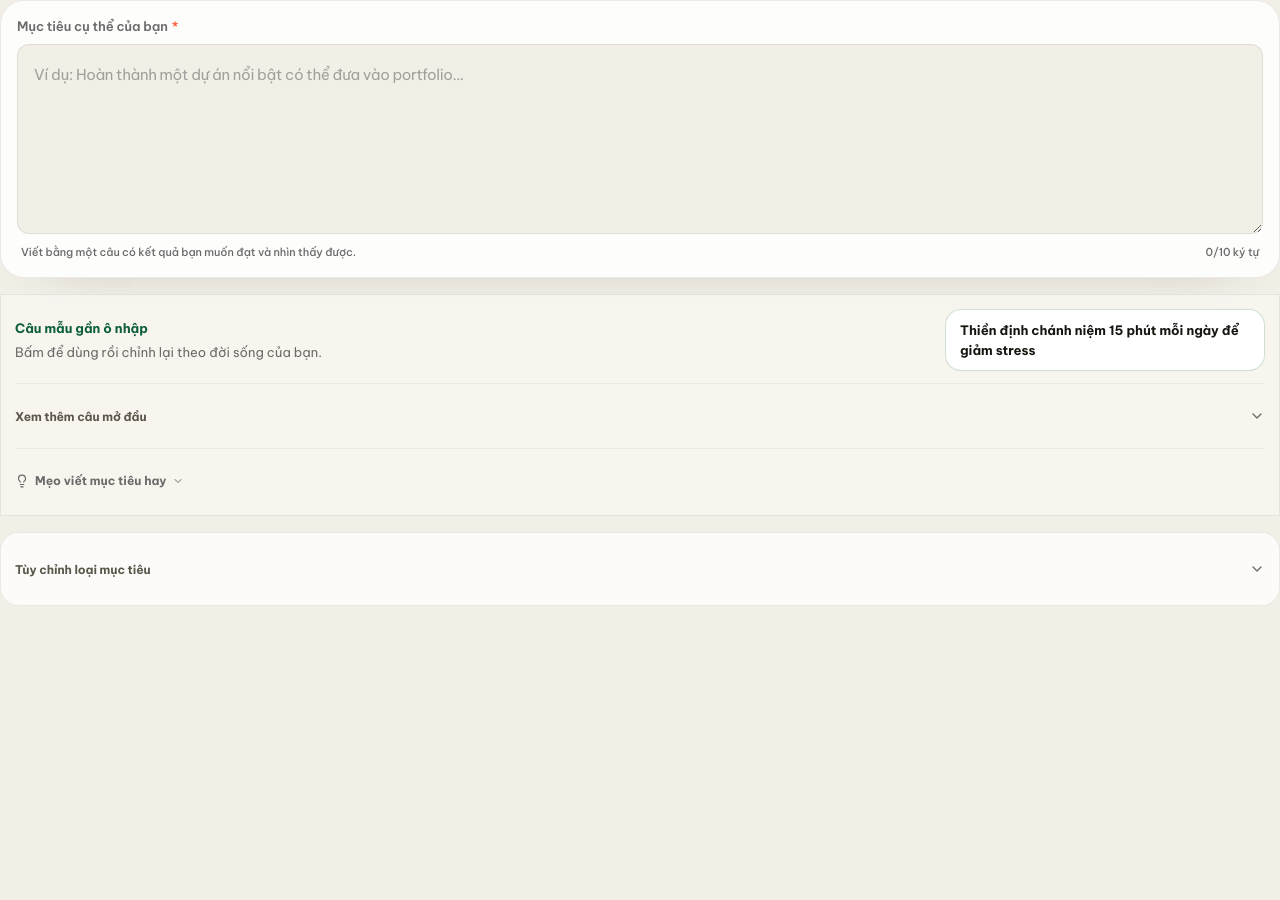
Test: SpecificStep — inline validation + giữ dữ liệu › validation fail không reset/clear giá trị người dùng đã nhập (Req 13.6)
This screenshot has width=1280, height=900.
# Nhập giá trị chưa đủ điều kiện (dưới 10 ký tự) → sẽ vi phạm rule minLength.
Type "ngắn" into the text box labelled "Mục tiêu cụ thể của bạn*" at (640, 139), box x1=17 y1=44 x2=1263 y2=234
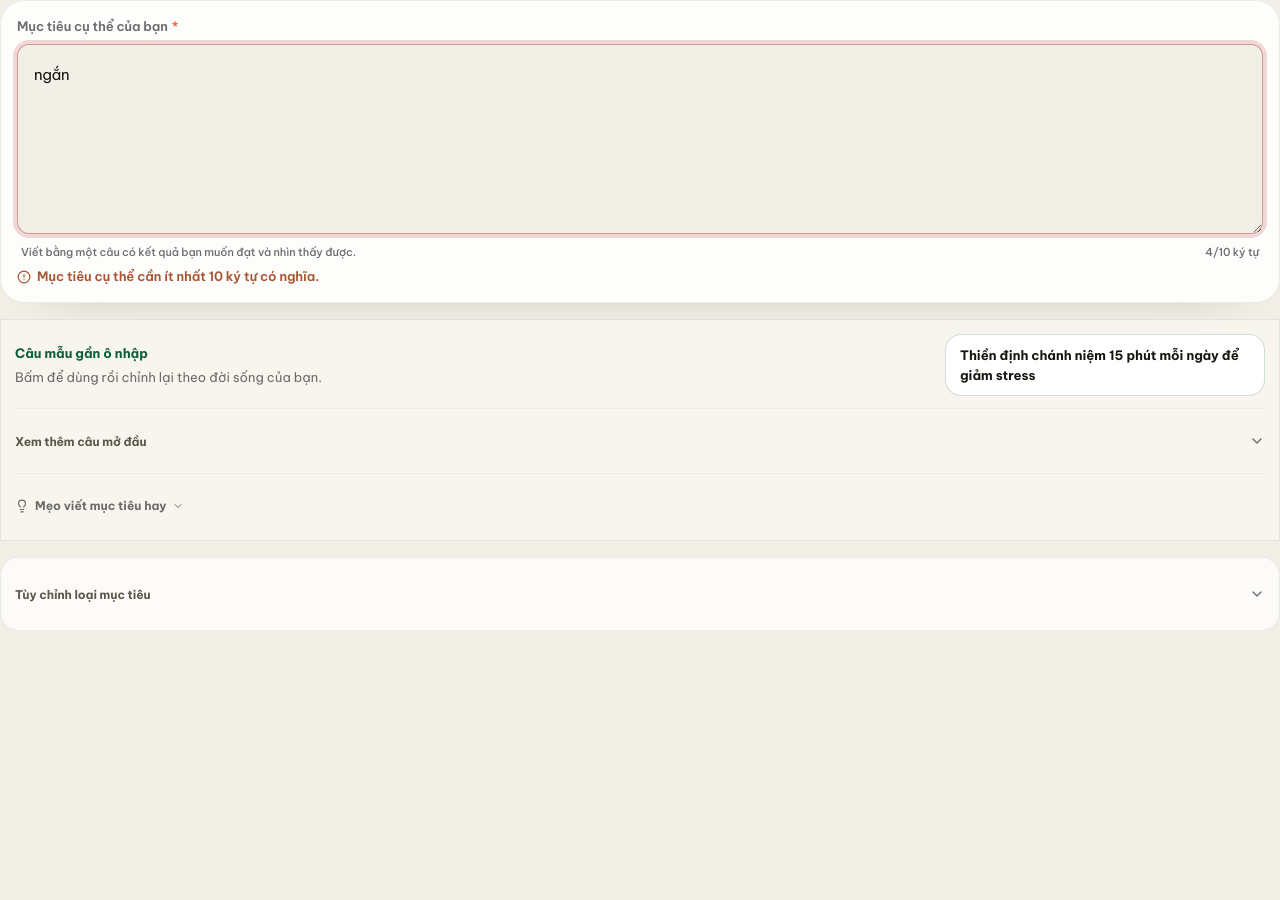
Result: the text "Mục tiêu cụ thể cần ít nhất 10 ký tự có nghĩa." is shown at x1=37 y1=267 x2=319 y2=286
